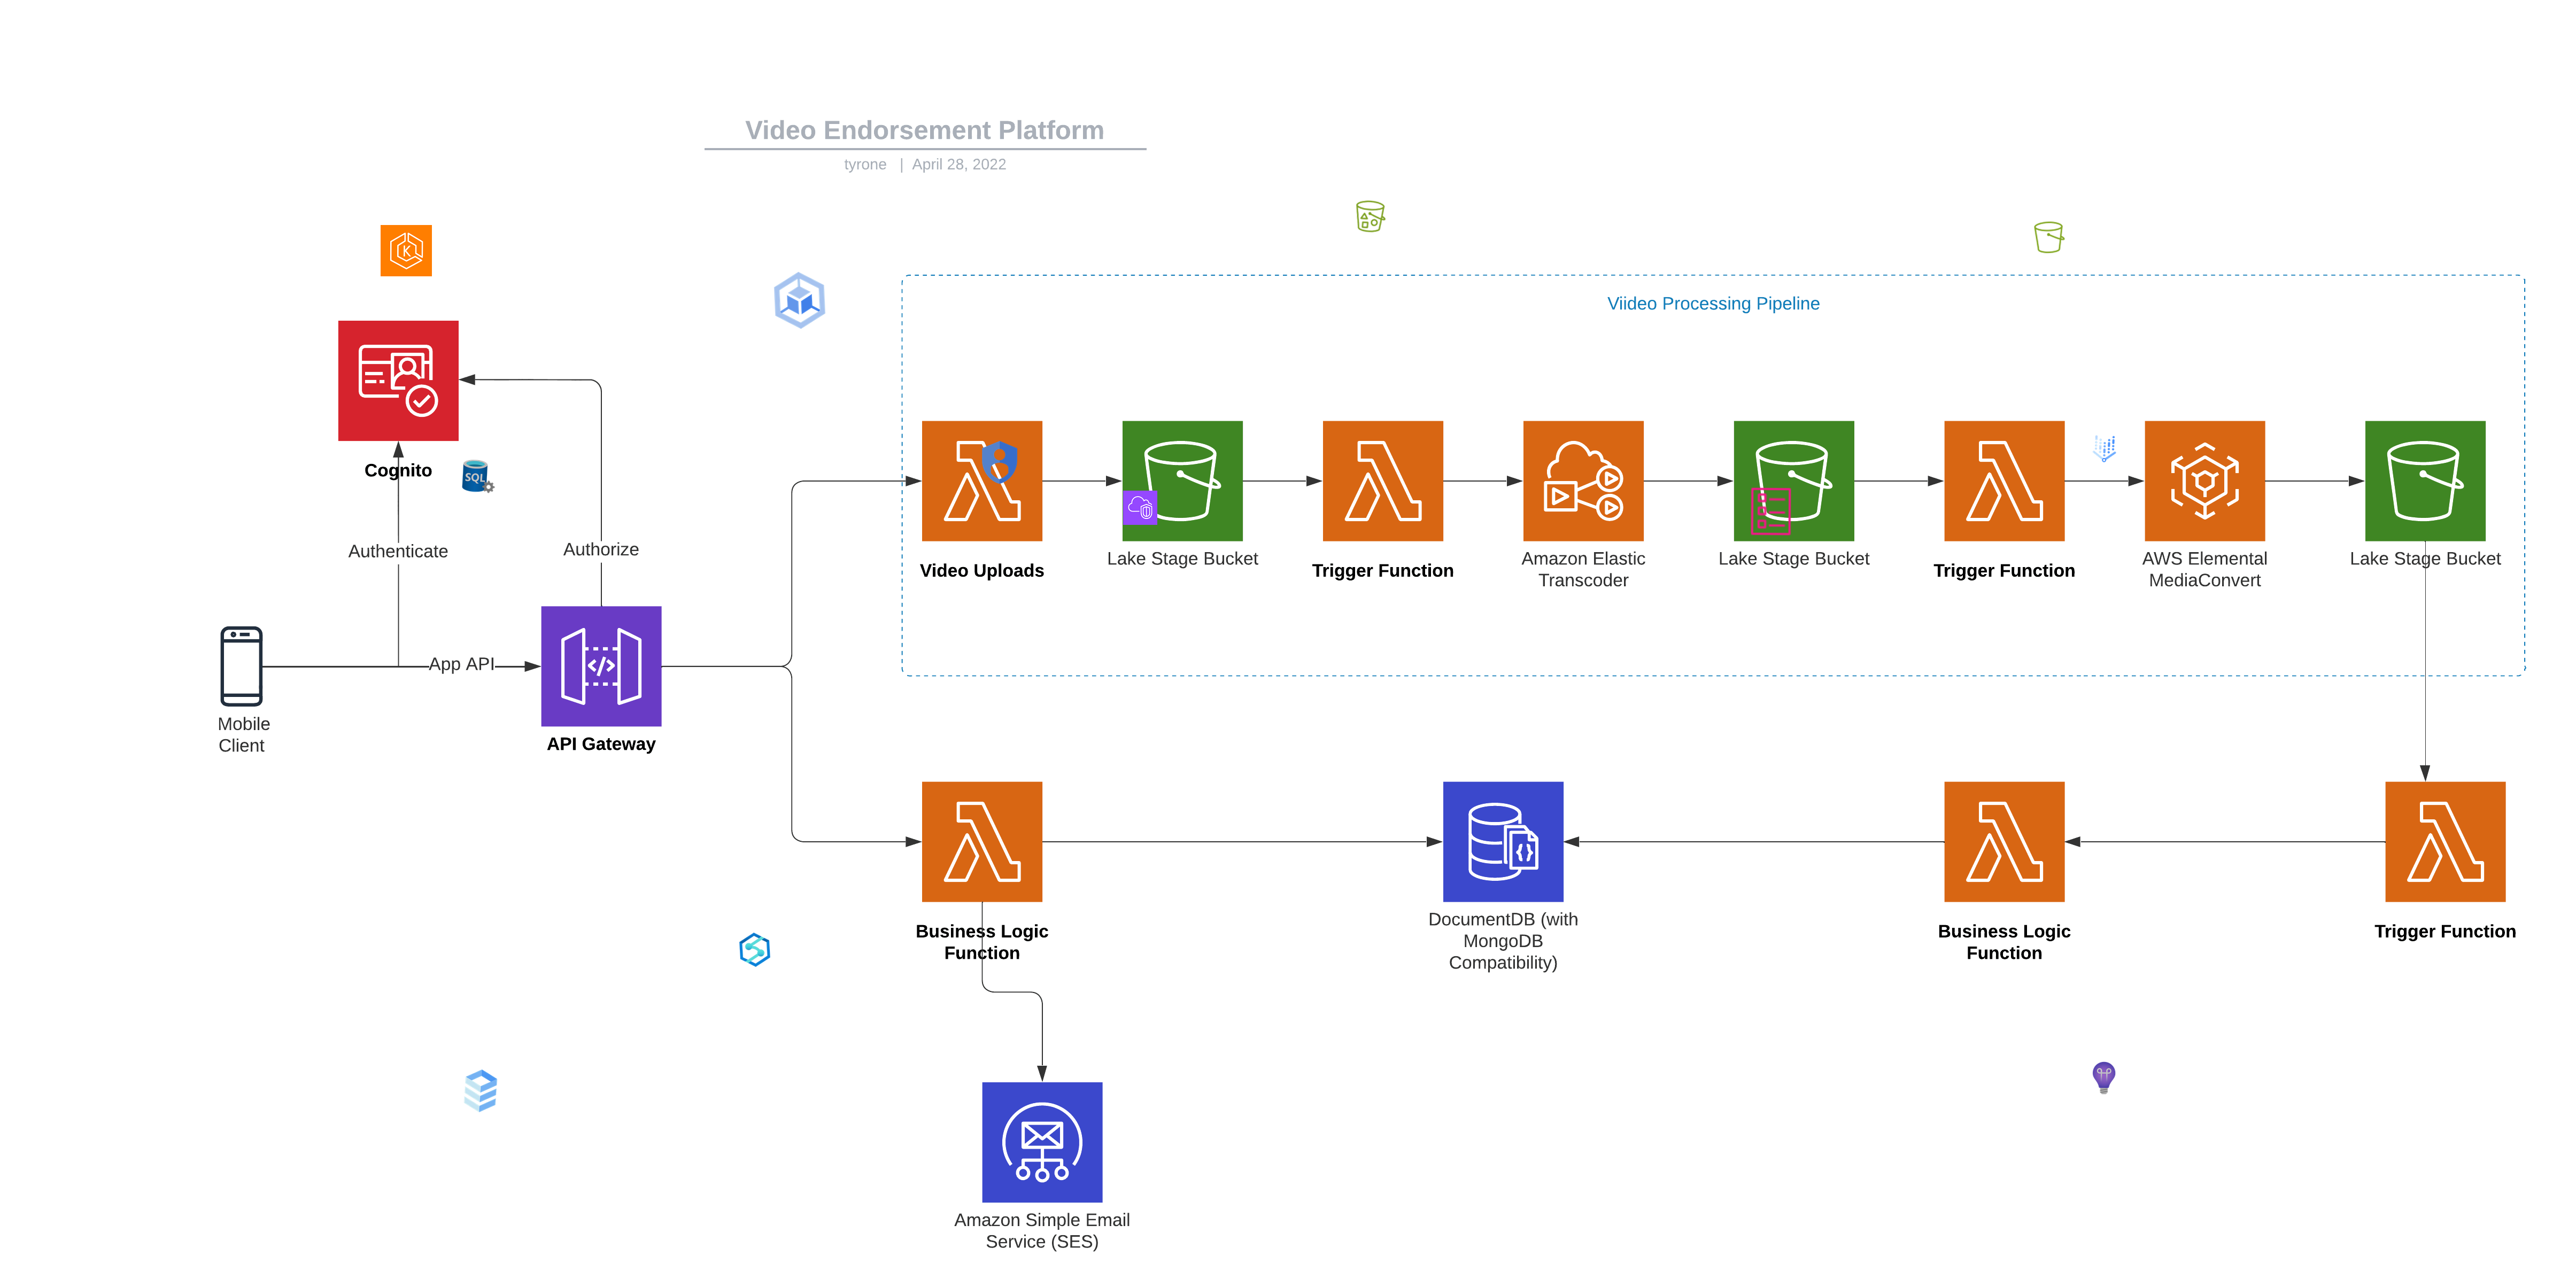aws_amazon_elastic_kubernetes_service: (380, 225, 432, 277)
aws_amazon_virtual_private_cloud: (1122, 491, 1158, 525)
aws_cloudformation_template: (1745, 486, 1797, 538)
aws_simple_storage_service_bucket: (2032, 220, 2067, 254)
aws_simple_storage_service_bucket_with_objects: (1352, 199, 1388, 235)
azure_application_insights: (2086, 1060, 2121, 1095)
azure_sql_server: (460, 458, 498, 494)
azure_synapse_analytics: (736, 931, 772, 969)
gcp_cloud_sql: (453, 1064, 508, 1118)
gcp_google_kubernetes_engine: (764, 264, 836, 337)
gcp_identity_and_access_management: (974, 437, 1025, 489)
gcp_vertex_ai: (2086, 430, 2123, 468)
